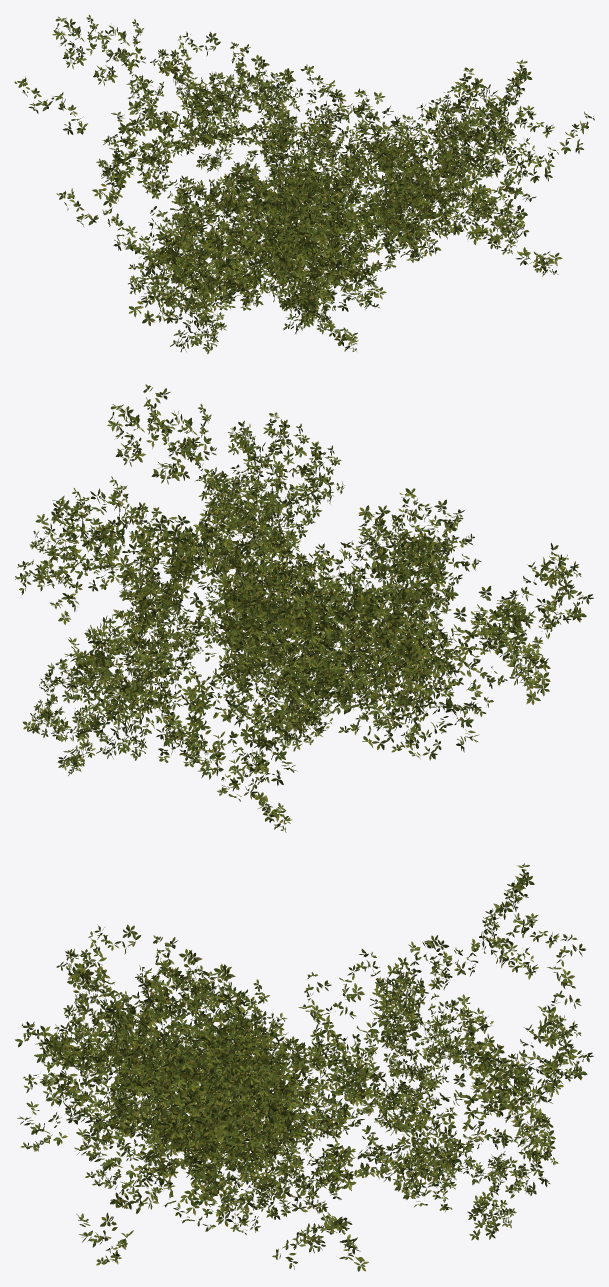
The model's file is island-tree-02-complete.glb.
The picture shows the model from 3 angles, top to bottom: view 1: azimuth 30°, elevation 25°; view 2: azimuth 150°, elevation 25°; view 3: azimuth 270°, elevation 25°; orthographic projection. The views are drawn at different scales.
Visible parts, largest first — view 1: Complete authored leaf canopy; view 2: Complete authored leaf canopy; view 3: Complete authored leaf canopy.
Part boxes in pixels (left/top/right/bottom): Complete authored leaf canopy: left=14, top=14, right=594, bottom=354; Complete authored leaf canopy: left=15, top=384, right=593, bottom=832; Complete authored leaf canopy: left=14, top=863, right=593, bottom=1271.
Size of what is drawn, in the model's own units: 3.88 by 2.15 by 4.07.
Materials: 1 (1 with a texture image).
